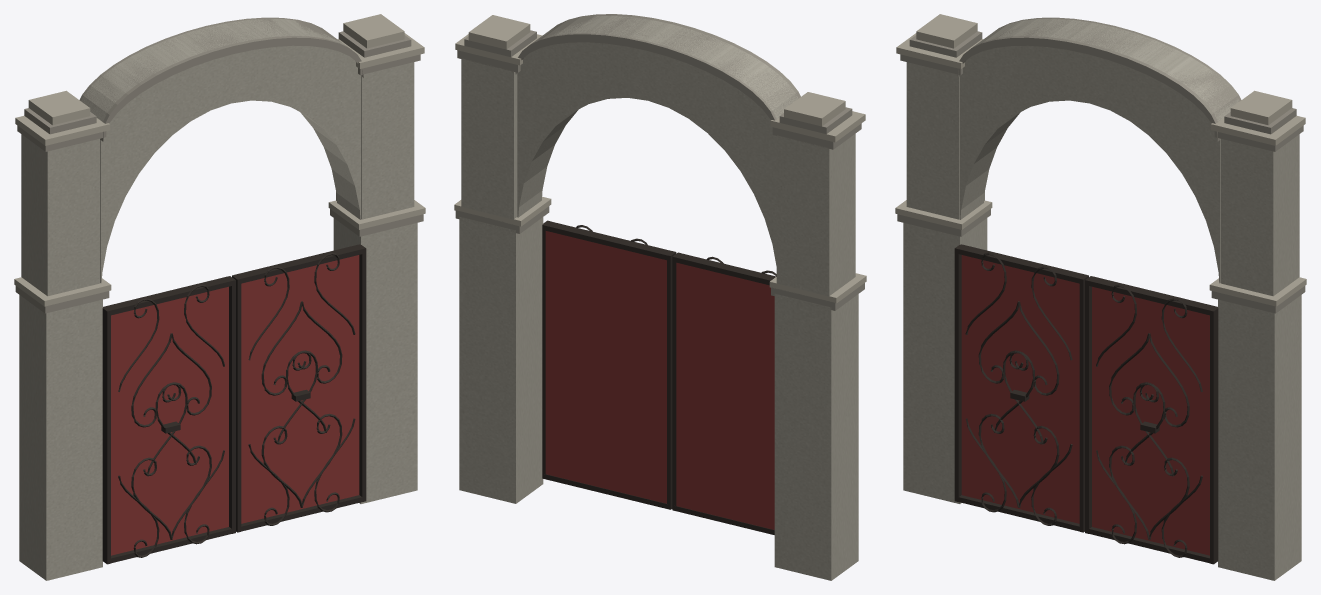
File: huangpu-julu-314-arched-entry-and-ironwork-lod.glb
The picture shows the model from 3 angles, left to right: view 1: azimuth 30°, elevation 25°; view 2: azimuth 150°, elevation 25°; view 3: azimuth 330°, elevation 25°; orthographic projection.
Visible parts, largest first — view 1: 巨鹿路314号住宅弧券门架与铁花双扇; view 2: 巨鹿路314号住宅弧券门架与铁花双扇; view 3: 巨鹿路314号住宅弧券门架与铁花双扇.
Part boxes in pixels (bbox=[...]): 巨鹿路314号住宅弧券门架与铁花双扇: bbox=[14, 14, 425, 580]; 巨鹿路314号住宅弧券门架与铁花双扇: bbox=[454, 14, 866, 580]; 巨鹿路314号住宅弧券门架与铁花双扇: bbox=[895, 14, 1306, 580].
Size of the model in its own units: 3.57 by 4.39 by 0.54.
Materials: 5 (1 with a texture image).
